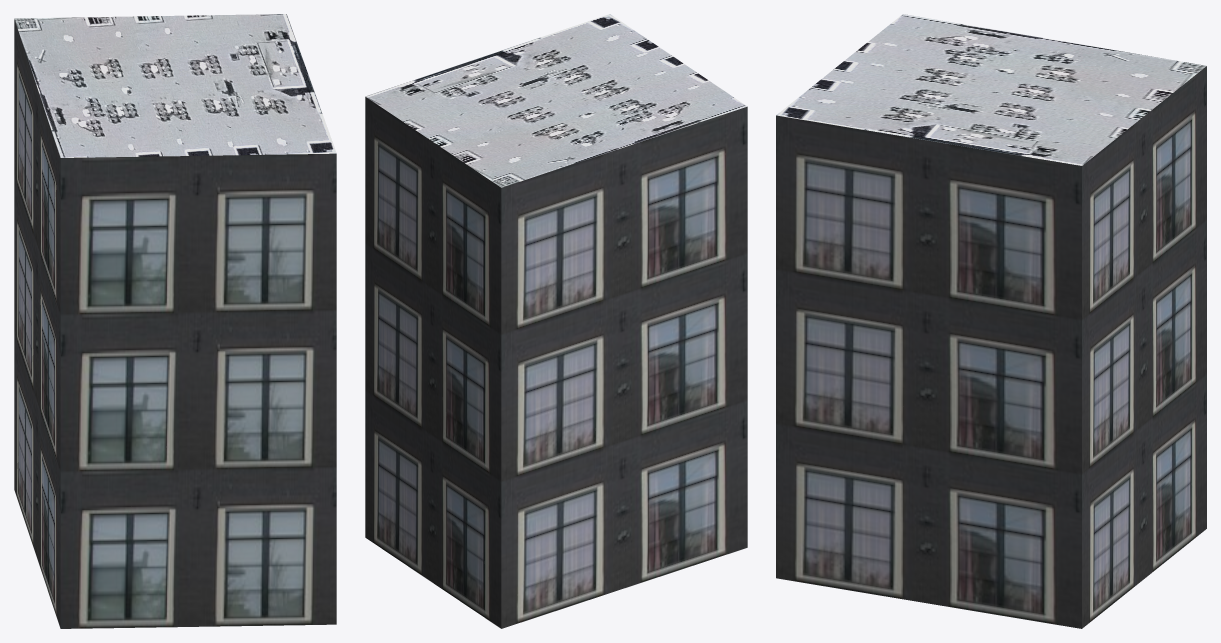
The model's file is ResTex__4660.fbx.
The picture shows the model from 3 angles, left to right: view 1: azimuth 30°, elevation 25°; view 2: azimuth 150°, elevation 25°; view 3: azimuth 270°, elevation 25°; orthographic projection. The views are drawn at different scales.
Parts seen in each view (by area): view 1: CityEngineMaterial_22_m, CityEngineMaterial_8_m; view 2: CityEngineMaterial_22_m, CityEngineMaterial_8_m; view 3: CityEngineMaterial_22_m, CityEngineMaterial_8_m.
Part boxes in pixels (x1,y1,x2,y2): CityEngineMaterial_22_m: (14, 19, 336, 628); CityEngineMaterial_8_m: (14, 14, 336, 157); CityEngineMaterial_22_m: (365, 97, 747, 628); CityEngineMaterial_8_m: (365, 14, 746, 187); CityEngineMaterial_22_m: (776, 66, 1206, 628); CityEngineMaterial_8_m: (776, 14, 1206, 165).
Bounding box in the file's own units: 6.34 × 9 × 7.59.
Materials: 2 (2 with a texture image).
